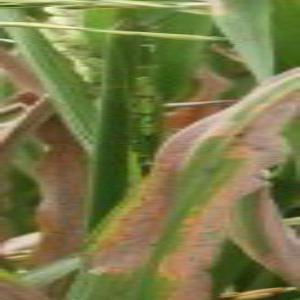Bacterial_Blight: (107, 120, 235, 300)
